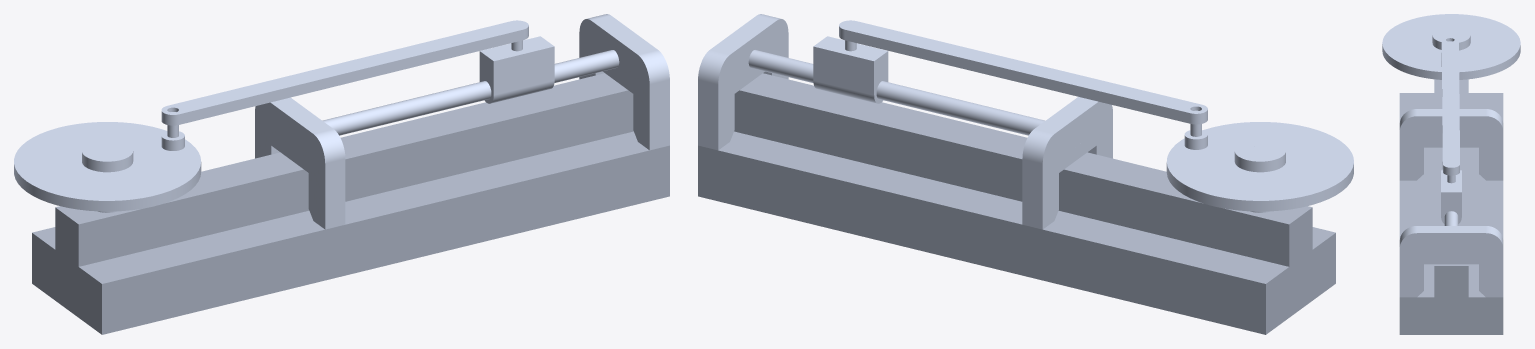
3 views of the same model, side by side, from view 1: azimuth 30°, elevation 25°; view 2: azimuth 150°, elevation 25°; view 3: azimuth 270°, elevation 25° (orthographic). The views are drawn at different scales.
Parts seen in each view (by area): view 1: cw-07-01-03-1, cw-07-01-02-1, cw-07-01-04-1, cw-07-01-07-2, cw-07-01-07-1, cw-07-01-09-1, cw-07-01-06-1, cw-07-01-01-1; view 2: cw-07-01-03-1, cw-07-01-02-1, cw-07-01-04-1, cw-07-01-07-2, cw-07-01-07-1, cw-07-01-09-1, cw-07-01-06-1, cw-07-01-01-1; view 3: cw-07-01-03-1, cw-07-01-02-1, cw-07-01-07-1, cw-07-01-07-2, cw-07-01-04-1, cw-07-01-06-1, cw-07-01-09-1.
Boxes of the visible parts, x1,y1,x2,y2 form: cw-07-01-03-1: (32, 73, 669, 334); cw-07-01-02-1: (14, 122, 201, 211); cw-07-01-04-1: (161, 20, 528, 125); cw-07-01-07-2: (255, 97, 345, 229); cw-07-01-07-1: (579, 14, 669, 150); cw-07-01-09-1: (285, 50, 619, 147); cw-07-01-06-1: (479, 36, 554, 103); cw-07-01-01-1: (161, 112, 184, 150); cw-07-01-03-1: (698, 73, 1335, 334); cw-07-01-02-1: (1166, 122, 1353, 211); cw-07-01-04-1: (839, 20, 1207, 124); cw-07-01-07-2: (1022, 97, 1112, 229); cw-07-01-07-1: (698, 14, 788, 150); cw-07-01-09-1: (748, 50, 1082, 147); cw-07-01-06-1: (813, 36, 888, 103); cw-07-01-01-1: (1184, 110, 1207, 149); cw-07-01-03-1: (1399, 79, 1503, 334); cw-07-01-02-1: (1382, 14, 1520, 79); cw-07-01-07-1: (1399, 226, 1503, 297); cw-07-01-07-2: (1399, 109, 1503, 180); cw-07-01-04-1: (1441, 36, 1459, 175); cw-07-01-06-1: (1441, 170, 1461, 223); cw-07-01-09-1: (1444, 211, 1458, 254).
Size of the model in its own units: 0.3 by 0.082 by 0.08.
